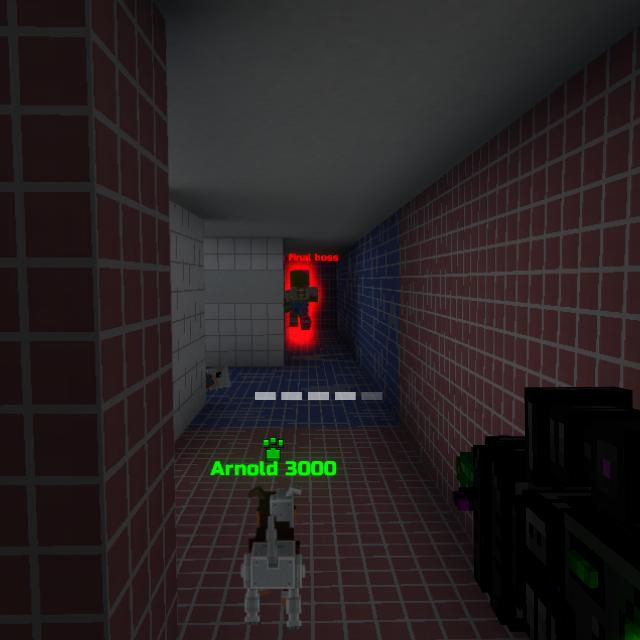Enemy: (284, 268, 317, 329)
